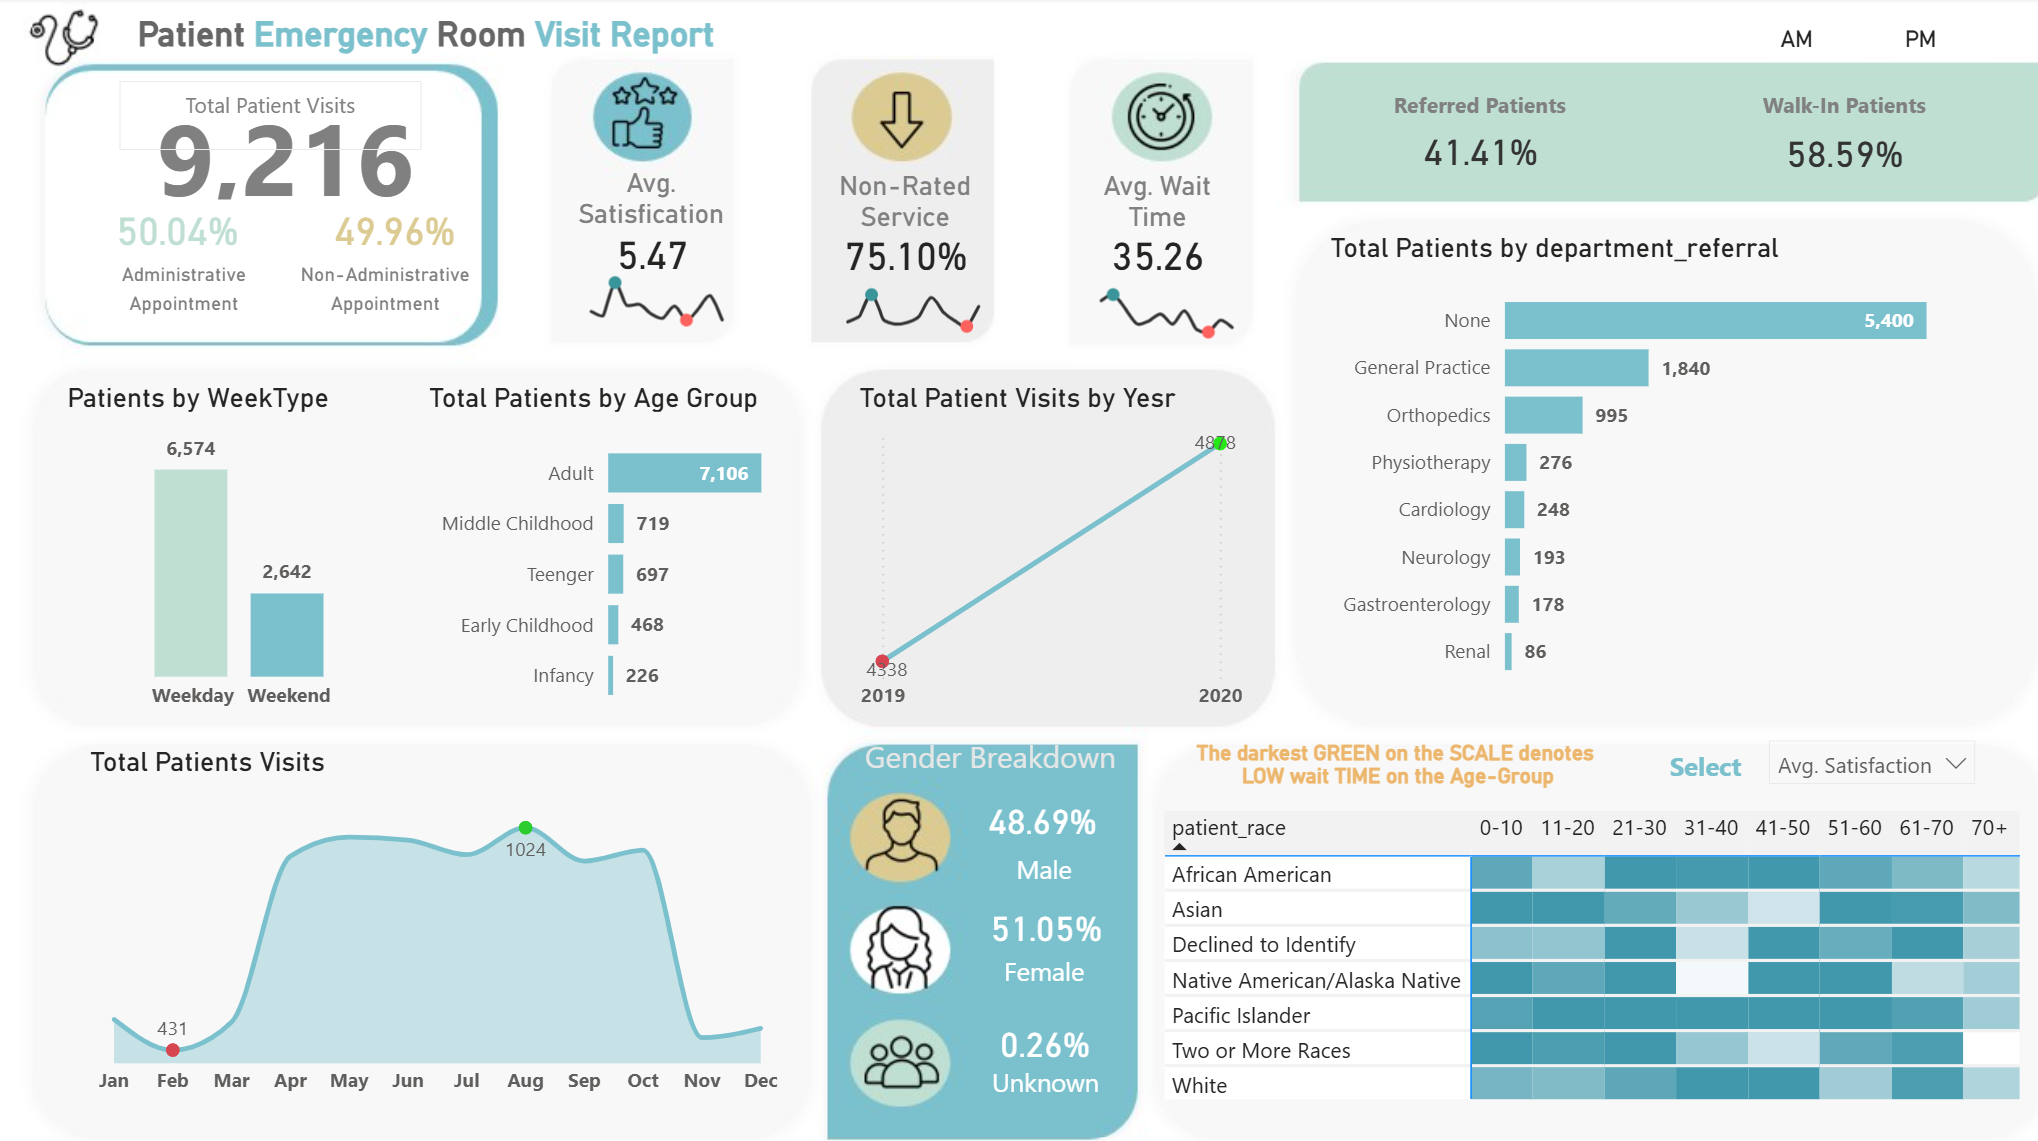

This screenshot's page, from the dashboard's own definition file:
{"tool":"powerbi","page":{"name":"Page 1","canvas":[1280,720],"ordinal":0},"visuals":[{"type":"cardVisual","fields":{"Data":["Calculation.Total Patients"]},"box":[76.1,32.3,208.3,108.9],"z":0},{"type":"card","fields":{"Values":["Calculation.% Administrative Schedule"]},"box":[66.9,127.2,89.8,38.3],"z":1000},{"type":"card","fields":{"Values":["Calculation.% NonAdministrative Schedule"]},"box":[189,126,118.5,39.5],"z":2000},{"type":"pivotTable","fields":{"Values":["Calculation.Average Satisfaction Score"],"Rows":["Patients Datasets.patient_race"],"Columns":["Patients Datasets.Age Group"]},"box":[726.3,505.3,553.9,192.2],"z":3000},{"type":"slicer","fields":{"Values":["Parameter.Parameter"]},"box":[1100.2,455.8,149.6,40.6],"z":4000},{"type":"clusteredBarChart","fields":{"Category":["Patients Datasets.Age Group"],"Y":["Calculation.Total Patients"]},"box":[265.5,240.8,250.7,215],"z":5000},{"type":"lineChart","title":"Total Patients Visits","fields":{"Category":["Date.Month"],"Y":["Calculation.Total Patients","Calculation.Values Max Point (Month)"]},"box":[52.5,469.7,444.9,227.9],"z":6000},{"type":"lineChart","title":"Total Patient Visits by Yesr","fields":{"Category":["Date.Year"],"Y":["Calculation.Total Patients","Calculation.Values Max Point (Year)"]},"box":[535.1,240.8,249.7,215],"z":7000},{"type":"clusteredBarChart","fields":{"Y":["Calculation.Total Patients"],"Category":["Patients Datasets.department_referral"]},"box":[830.3,146.6,421.1,292.3],"z":8000},{"type":"card","fields":{"Values":["Calculation.% Referred Patients"]},"box":[862.6,75.4,134.1,41.9],"z":9000},{"type":"card","fields":{"Values":["Calculation.% UnReferred Patients"]},"box":[1098.5,77.6,117.9,38.6],"z":10000},{"type":"card","fields":{"Values":["Calculation.HitMap Caption"]},"box":[734.2,457.8,282.4,47.6],"z":11000},{"type":"textbox","box":[61.8,157.6,108.9,51.5],"z":12000},{"type":"textbox","box":[180.3,157.6,124.5,51.5],"z":13000},{"type":"card","title":"Avg. Satisfication","fields":{"Values":["Calculation.Average Satisfaction Score"]},"box":[346.8,106,124.8,70.3],"z":14000},{"type":"card","title":"Non-Rated Service","fields":{"Values":["Calculation.% No Rating"]},"box":[508.3,108,119.9,68.4],"z":15000},{"type":"card","title":"Avg. Wait Time","fields":{"Values":["Calculation.Average Wait Time"]},"box":[672.8,108,107,68.4],"z":16000},{"type":"advancedSlicerVisual","fields":{"Values":["Patients Datasets.Moment"]},"box":[1098.8,0,160.5,45.6],"z":17000},{"type":"textbox","box":[866.2,52.6,125.7,39.5],"z":18000},{"type":"textbox","box":[1094.8,52.6,125.7,32.3],"z":19000},{"type":"clusteredColumnChart","title":"Patients by WeekType","fields":{"Y":["Calculation.Total Patients"],"Category":["Date.WeekType"]},"box":[38.6,240.8,226.9,215],"z":20000},{"type":"card","fields":{"Values":["Calculation.%Male Visit"]},"box":[603.4,558.8,106,49.5],"z":21000},{"type":"card","fields":{"Values":["Calculation.%Female Visit"]},"box":[606.4,491.5,96.1,49.5],"z":22000},{"type":"card","fields":{"Values":["Calculation.%Unkonwn Visit"]},"box":[606.4,634.1,99.1,44.6],"z":23000},{"type":"textbox","box":[76.1,52.6,189.1,43.1],"z":24000},{"type":"PBI_CV_25997FEB_F466_44FA_B562_AC4063283C4C","fields":{"measure":["Calculation.Average Satisfaction Score"],"axis":["Date.Month"]},"box":[353.5,161.9,122.1,51.5],"z":25000},{"type":"PBI_CV_25997FEB_F466_44FA_B562_AC4063283C4C","fields":{"measure":["Calculation.% No Rating"],"axis":["Date.Month"]},"box":[513.9,169.1,122.1,47.9],"z":26000},{"type":"PBI_CV_25997FEB_F466_44FA_B562_AC4063283C4C","fields":{"measure":["Calculation.Average Wait Time"],"axis":["Date.Month"]},"box":[673.1,169.1,122.1,51.5],"z":27000},{"type":"textbox","box":[527.1,457.8,189.3,35.7],"z":28000},{"type":"textbox","box":[622.2,530.1,66.4,39.6],"z":29000},{"type":"textbox","box":[620.3,594.5,70.3,39.6],"z":30000},{"type":"textbox","box":[604.4,663.9,104,49.5],"z":31000},{"type":"textbox","box":[1037.4,465.7,66.4,39.6],"z":32000},{"type":"textbox","box":[67.4,5.9,401.3,39.6],"z":33000}]}

Visuals, with their boxes in screenshot pixels (x1, y1, x2, y2), scaled from the page's 1280x720 canvas onto the 2038x1141 screenshot:
cardVisual - Calculation.Total Patients: x1=121 y1=51 x2=453 y2=224
card - Calculation.% Administrative Schedule: x1=107 y1=202 x2=249 y2=262
card - Calculation.% NonAdministrative Schedule: x1=301 y1=200 x2=490 y2=262
pivotTable - Calculation.Average Satisfaction Score x Patients Datasets.patient_race: x1=1156 y1=801 x2=2037 y2=1105
slicer - Parameter.Parameter: x1=1752 y1=722 x2=1990 y2=787
clusteredBarChart - Patients Datasets.Age Group x Calculation.Total Patients: x1=423 y1=382 x2=822 y2=722
"Total Patients Visits" lineChart: x1=84 y1=744 x2=792 y2=1106
"Total Patient Visits by Yesr" lineChart: x1=852 y1=382 x2=1250 y2=722
clusteredBarChart - Calculation.Total Patients x Patients Datasets.department_referral: x1=1322 y1=232 x2=1992 y2=696
card - Calculation.% Referred Patients: x1=1373 y1=119 x2=1587 y2=186
card - Calculation.% UnReferred Patients: x1=1749 y1=123 x2=1937 y2=184
card - Calculation.HitMap Caption: x1=1169 y1=725 x2=1619 y2=801
textbox: x1=98 y1=250 x2=272 y2=331
textbox: x1=287 y1=250 x2=485 y2=331
"Avg. Satisfication" card: x1=552 y1=168 x2=751 y2=279
"Non-Rated Service" card: x1=809 y1=171 x2=1000 y2=280
"Avg. Wait Time" card: x1=1071 y1=171 x2=1242 y2=280
advancedSlicerVisual - Patients Datasets.Moment: x1=1749 y1=0 x2=2005 y2=72
textbox: x1=1379 y1=83 x2=1579 y2=146
textbox: x1=1743 y1=83 x2=1943 y2=135
"Patients by WeekType" clusteredColumnChart: x1=61 y1=382 x2=423 y2=722
card - Calculation.%Male Visit: x1=961 y1=886 x2=1129 y2=964
card - Calculation.%Female Visit: x1=966 y1=779 x2=1119 y2=857
card - Calculation.%Unkonwn Visit: x1=966 y1=1005 x2=1123 y2=1076
textbox: x1=121 y1=83 x2=422 y2=152
PBI_CV_25997FEB_F466_44FA_B562_AC4063283C4C - Calculation.Average Satisfaction Score x Date.Month: x1=563 y1=257 x2=757 y2=338
PBI_CV_25997FEB_F466_44FA_B562_AC4063283C4C - Calculation.% No Rating x Date.Month: x1=818 y1=268 x2=1013 y2=344
PBI_CV_25997FEB_F466_44FA_B562_AC4063283C4C - Calculation.Average Wait Time x Date.Month: x1=1072 y1=268 x2=1266 y2=350
textbox: x1=839 y1=725 x2=1141 y2=782
textbox: x1=991 y1=840 x2=1096 y2=903
textbox: x1=988 y1=942 x2=1100 y2=1005
textbox: x1=962 y1=1052 x2=1128 y2=1131
textbox: x1=1652 y1=738 x2=1757 y2=801
textbox: x1=107 y1=9 x2=746 y2=72
